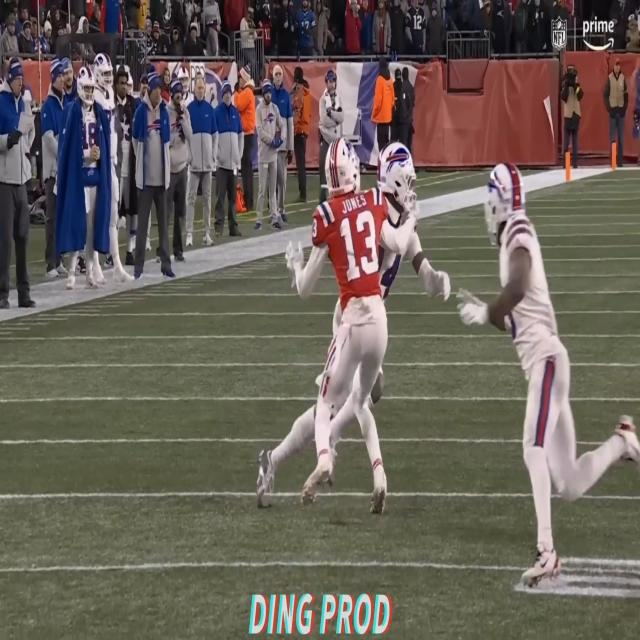players: (469, 141, 625, 562), (283, 129, 407, 546), (367, 132, 449, 309)
